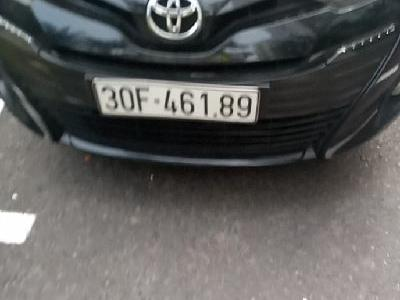lisence: (91, 78, 261, 127)
